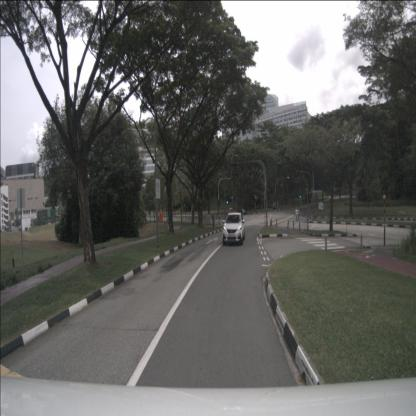human-pedestrian-adult: (295, 207, 298, 221), (298, 209, 300, 218), (226, 208, 228, 217), (242, 208, 244, 216)
vehicle-car: (222, 212, 245, 246), (225, 207, 237, 216)
